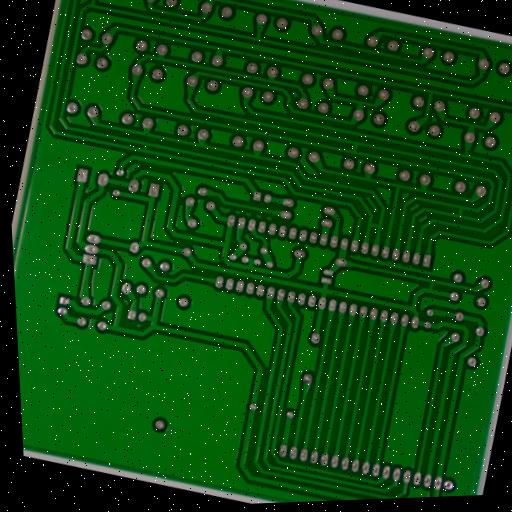short_circuit: (421, 276, 441, 299), (364, 217, 385, 233), (452, 202, 468, 222), (348, 138, 364, 157), (137, 139, 152, 155)
